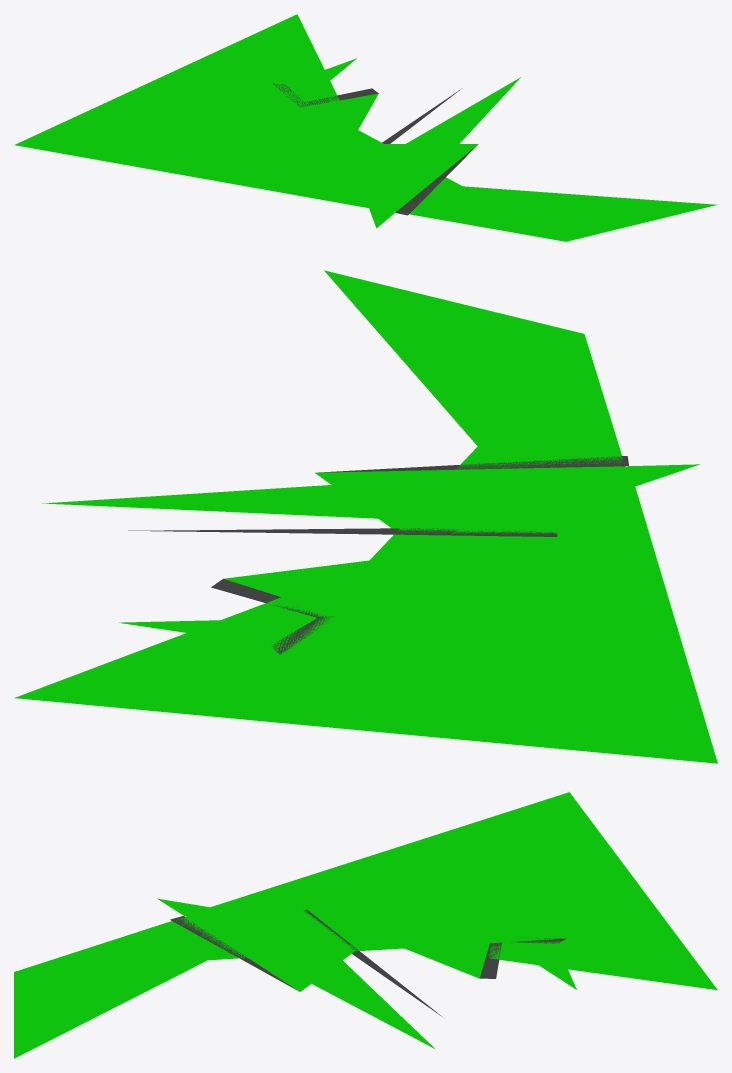
3 renders of one model, top to bottom at view 1: azimuth 30°, elevation 25°; view 2: azimuth 150°, elevation 25°; view 3: azimuth 270°, elevation 25°, orthographic. The views are drawn at different scales.
Size of the model in its own units: 135 by 0 by 150.
